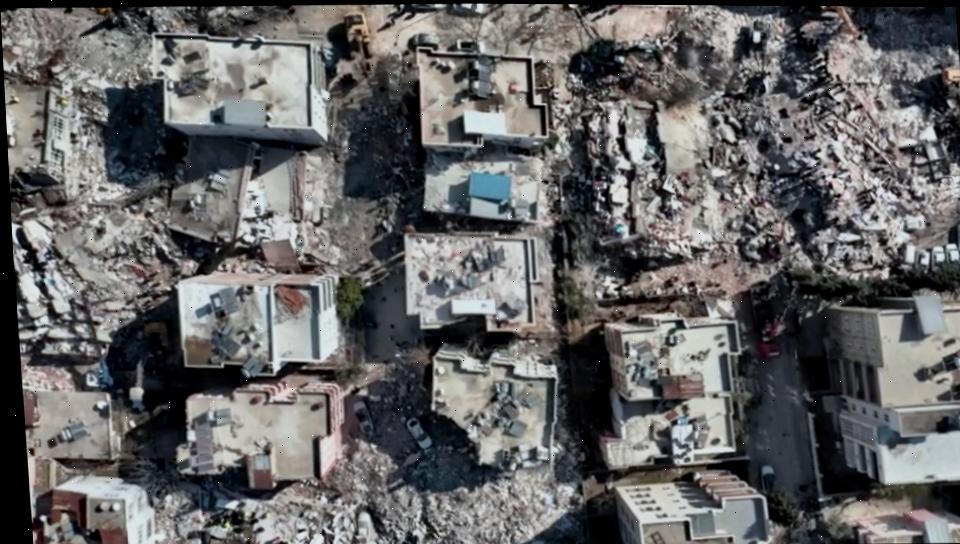kapali: (552, 6, 959, 67), (332, 46, 422, 277), (365, 321, 438, 544)
